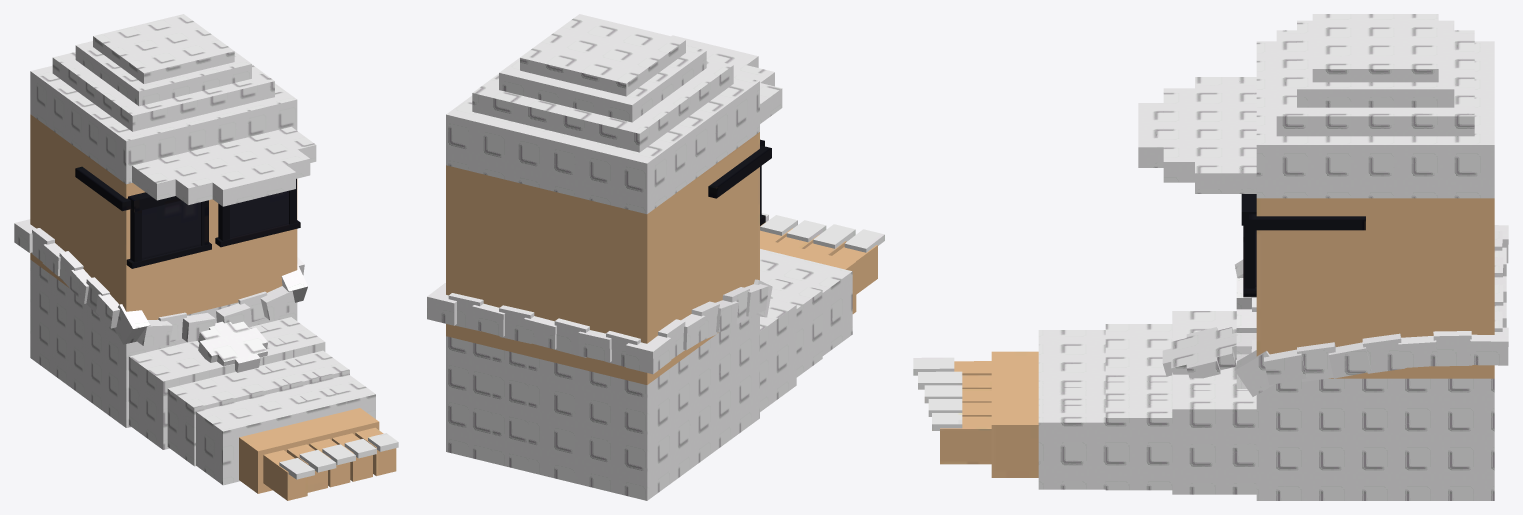
The model's file is Gangster Footera.obj.
The picture shows the model from 3 angles, left to right: view 1: azimuth 30°, elevation 25°; view 2: azimuth 150°, elevation 25°; view 3: azimuth 270°, elevation 25°; orthographic projection. The views are drawn at different scales.
Parts seen in each view (by area): view 1: Cube0011, Cube0041, Cube0541, Cube0031, Cube0021; view 2: Cube0011, Cube0041, Cube0541, Cube0031, Cube0021; view 3: Cube0541, Cube0041, Cube0011, Cube0031, Cube0021.
Part boxes in pixels (bbox=[...]): Cube0011: bbox=[30, 114, 398, 500]; Cube0041: bbox=[30, 14, 316, 206]; Cube0541: bbox=[30, 260, 375, 485]; Cube0031: bbox=[14, 219, 307, 372]; Cube0021: bbox=[227, 302, 360, 418]; Cube0011: bbox=[446, 132, 884, 384]; Cube0041: bbox=[446, 14, 782, 214]; Cube0541: bbox=[446, 249, 852, 500]; Cube0031: bbox=[427, 279, 772, 374]; Cube0021: bbox=[472, 343, 528, 471]; Cube0541: bbox=[1038, 311, 1494, 500]; Cube0041: bbox=[1138, 14, 1494, 198]; Cube0011: bbox=[913, 194, 1494, 477]; Cube0031: bbox=[1162, 225, 1508, 396]; Cube0021: bbox=[1038, 371, 1256, 413].
Size of the model in its own units: 3.2 by 5.21 by 6.89.
5 materials, 5 textured.
